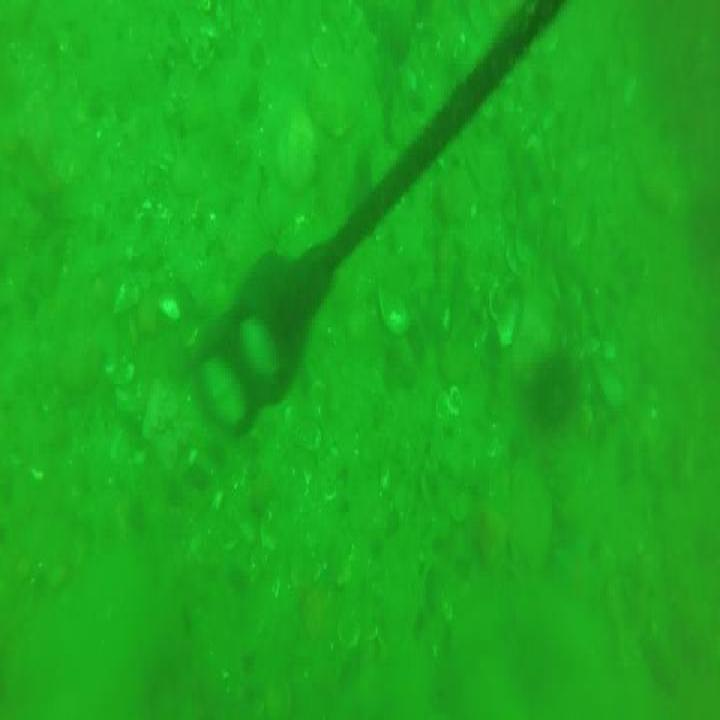echinus: (530, 354, 579, 432)
scallop: (310, 66, 367, 142), (276, 110, 321, 197), (377, 286, 415, 340), (490, 284, 522, 346), (104, 349, 138, 391), (112, 274, 141, 318)
